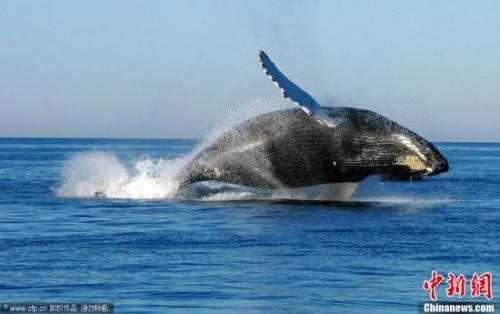fish: (163, 50, 453, 205)
